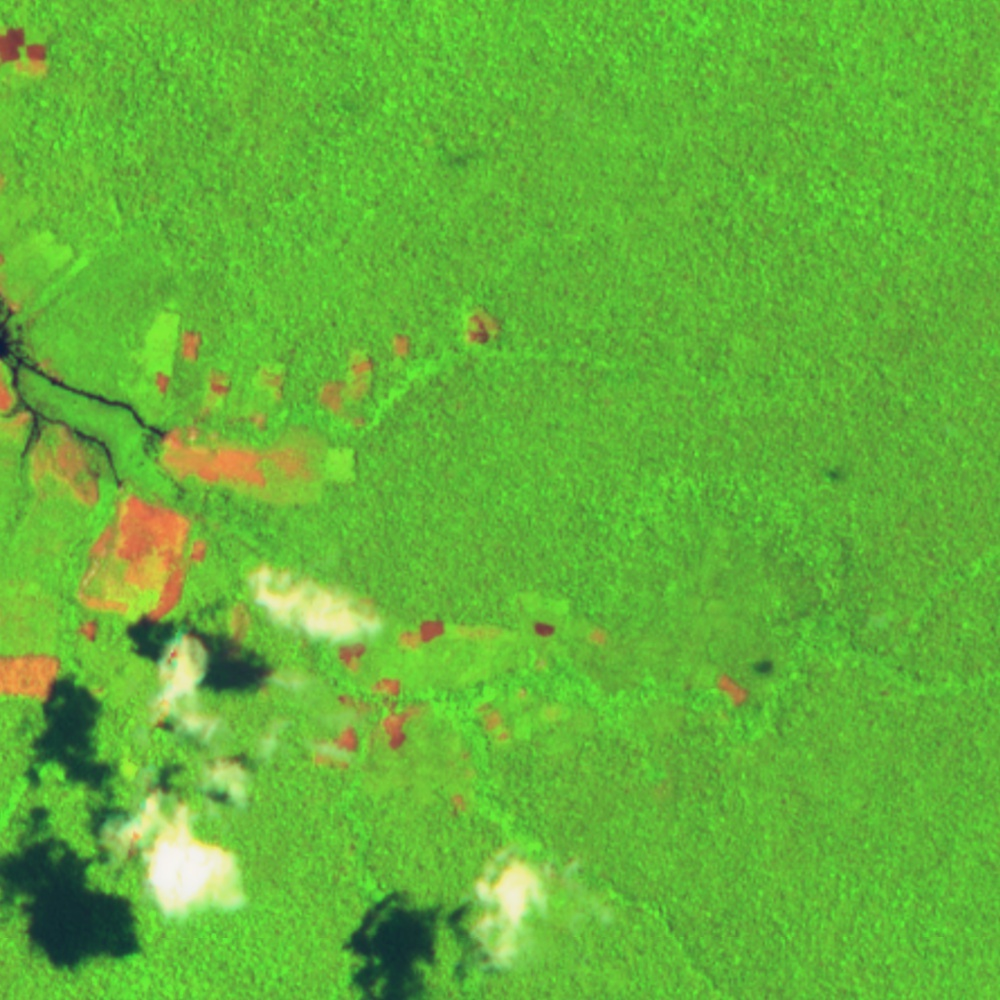legal: (299, 607, 615, 782), (125, 317, 362, 509), (318, 304, 508, 423), (1, 291, 105, 505), (67, 495, 212, 623), (1, 646, 61, 708), (1, 21, 55, 83), (448, 787, 508, 824), (710, 668, 755, 710), (223, 594, 249, 666), (70, 617, 99, 643)
